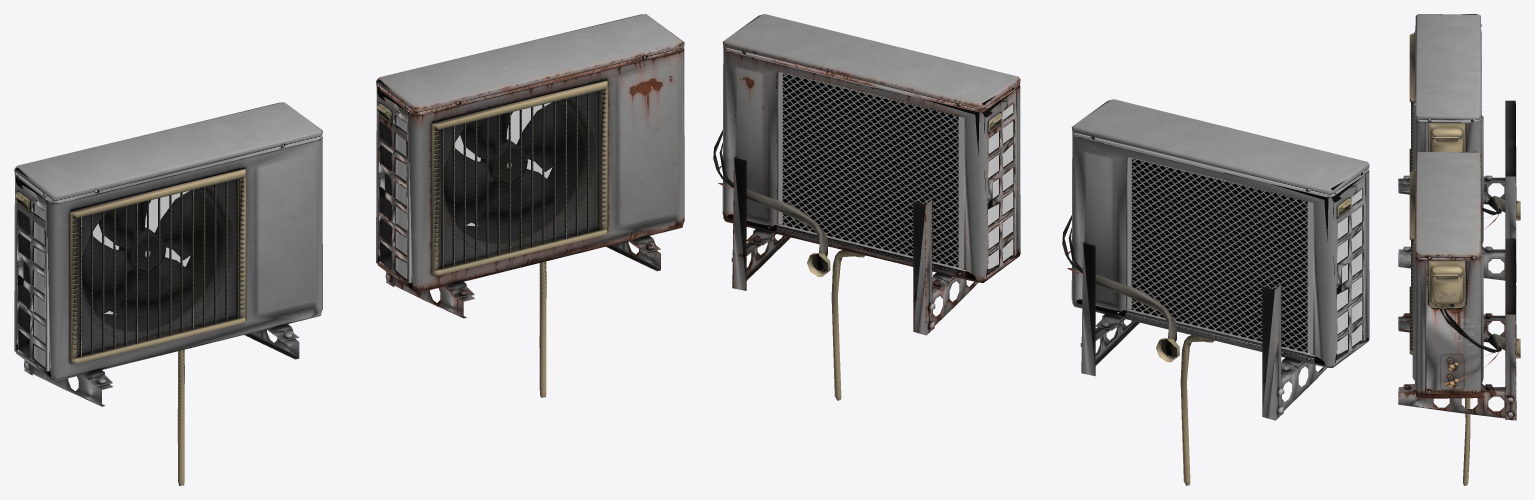
The model's file is exterior_aircon_unit.glb.
3 renders of one model, left to right at view 1: azimuth 30°, elevation 25°; view 2: azimuth 150°, elevation 25°; view 3: azimuth 270°, elevation 25°, orthographic. The views are drawn at different scales.
Visible parts, largest first — view 1: exterior_aircon_unit_rusted, exterior_aircon_unit; view 2: exterior_aircon_unit_rusted, exterior_aircon_unit; view 3: exterior_aircon_unit_rusted, exterior_aircon_unit.
Boxes of the visible parts, x1=… form: exterior_aircon_unit_rusted: x1=376, y1=14, x2=684, y2=397; exterior_aircon_unit: x1=14, y1=102, x2=322, y2=485; exterior_aircon_unit_rusted: x1=713, y1=14, x2=1020, y2=400; exterior_aircon_unit: x1=1062, y1=99, x2=1369, y2=485; exterior_aircon_unit_rusted: x1=1398, y1=151, x2=1520, y2=485; exterior_aircon_unit: x1=1398, y1=14, x2=1520, y2=282.
Bounding box in the file's own units: 1.8 × 0.9279 × 0.3742.
Materials: 4 (4 with a texture image).
